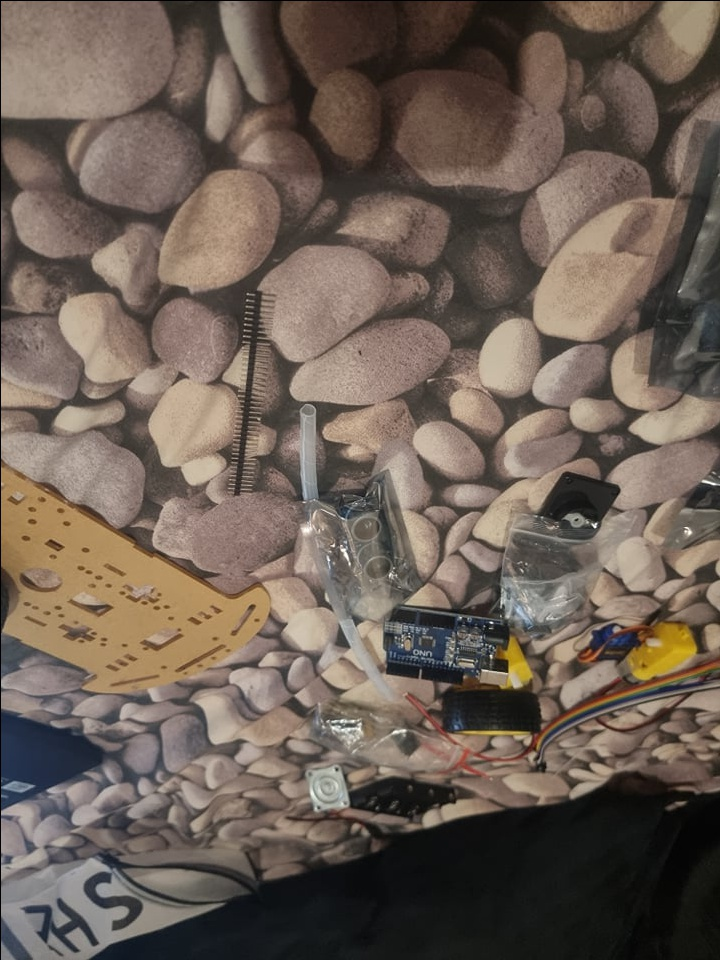BATTERY BOX: (349, 772, 462, 821)
SENSOR: (335, 496, 400, 583)
UNO R3: (381, 602, 515, 688)
